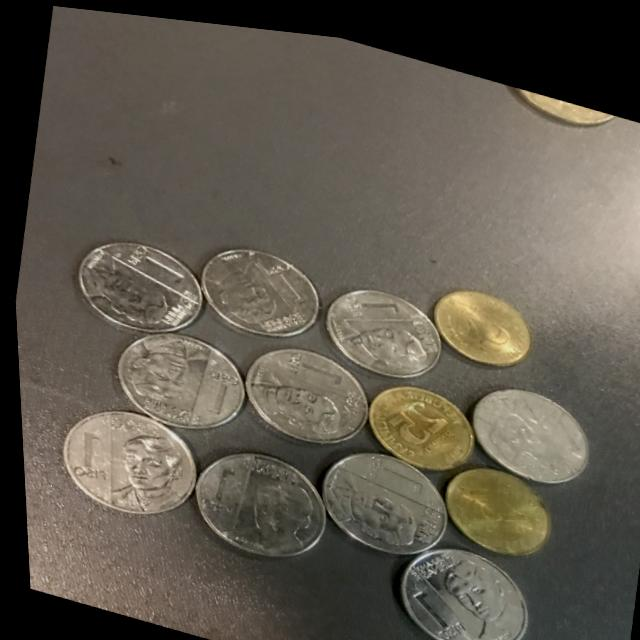1_New_Front: (312, 426, 458, 551), (58, 393, 192, 519), (396, 531, 531, 640), (118, 323, 243, 439), (77, 224, 195, 338), (319, 267, 441, 374), (245, 341, 356, 442)
25Cent_Old_Front: (366, 371, 471, 463)
